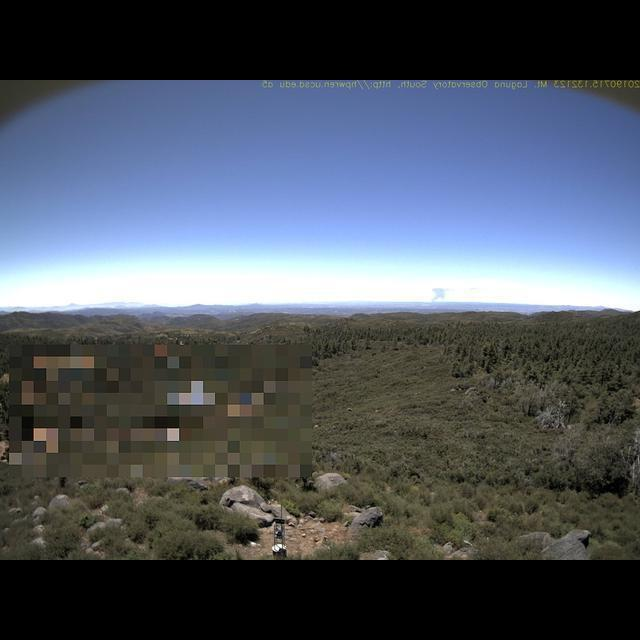Smoke: (425, 284, 449, 310)
